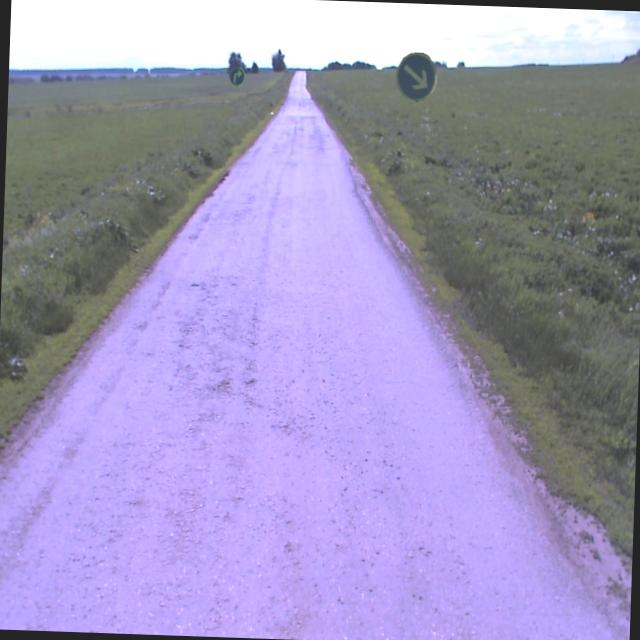road: (0, 92, 614, 640)
